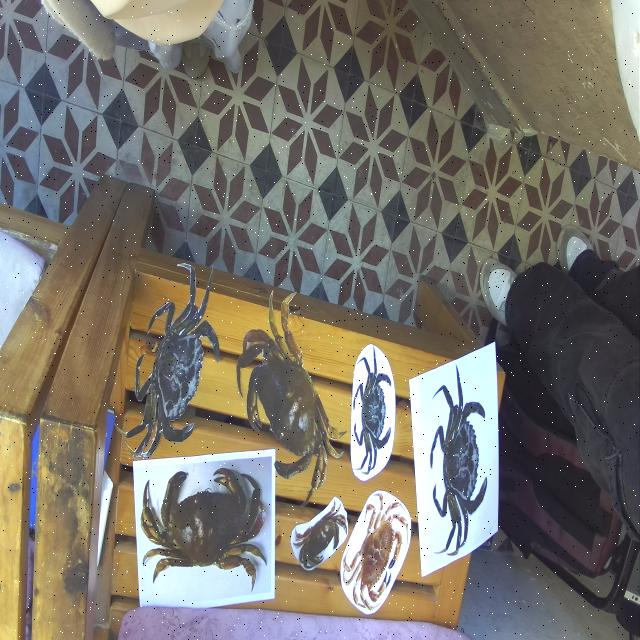European_Green_Crab: (110, 231, 242, 499), (425, 361, 492, 559), (353, 344, 392, 476)
